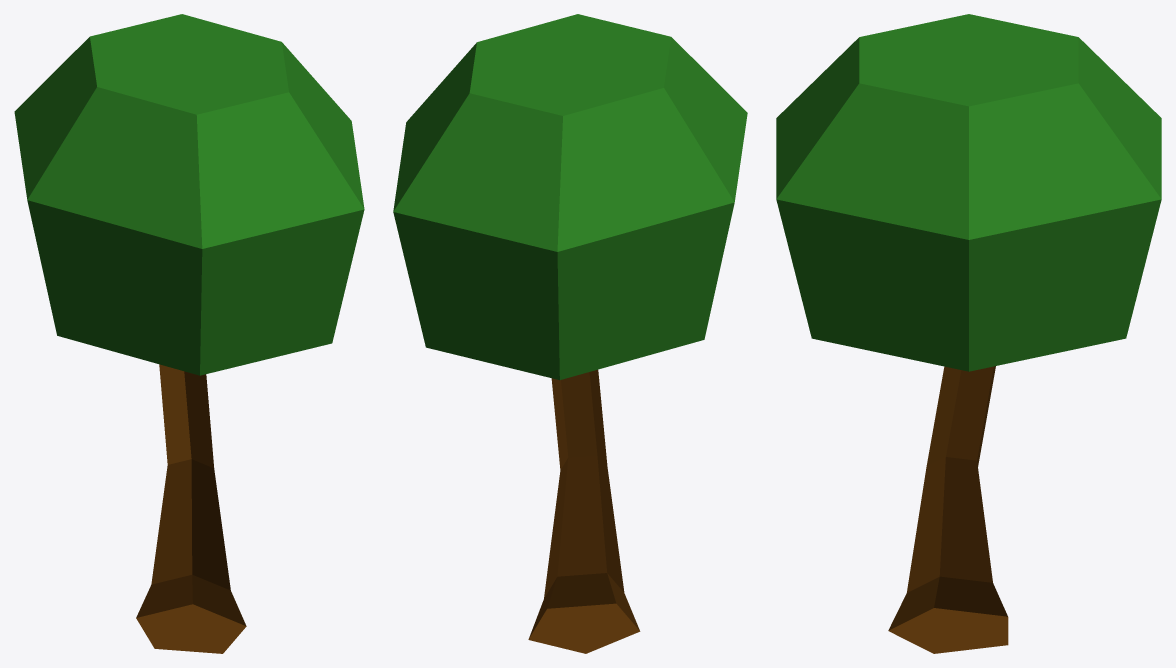
File: Tree01.fbx
3 renders of one model, left to right at view 1: azimuth 30°, elevation 25°; view 2: azimuth 150°, elevation 25°; view 3: azimuth 270°, elevation 25°, orthographic. The views are drawn at different scales.
Parts seen in each view (by area): view 1: Cylinder; view 2: Cylinder; view 3: Cylinder.
Boxes of the visible parts, x1,y1,x2,y2 form: Cylinder: (14, 14, 364, 653); Cylinder: (393, 14, 747, 653); Cylinder: (776, 14, 1161, 653).
Size of the model in its own units: 1.68 by 2.77 by 1.68.
